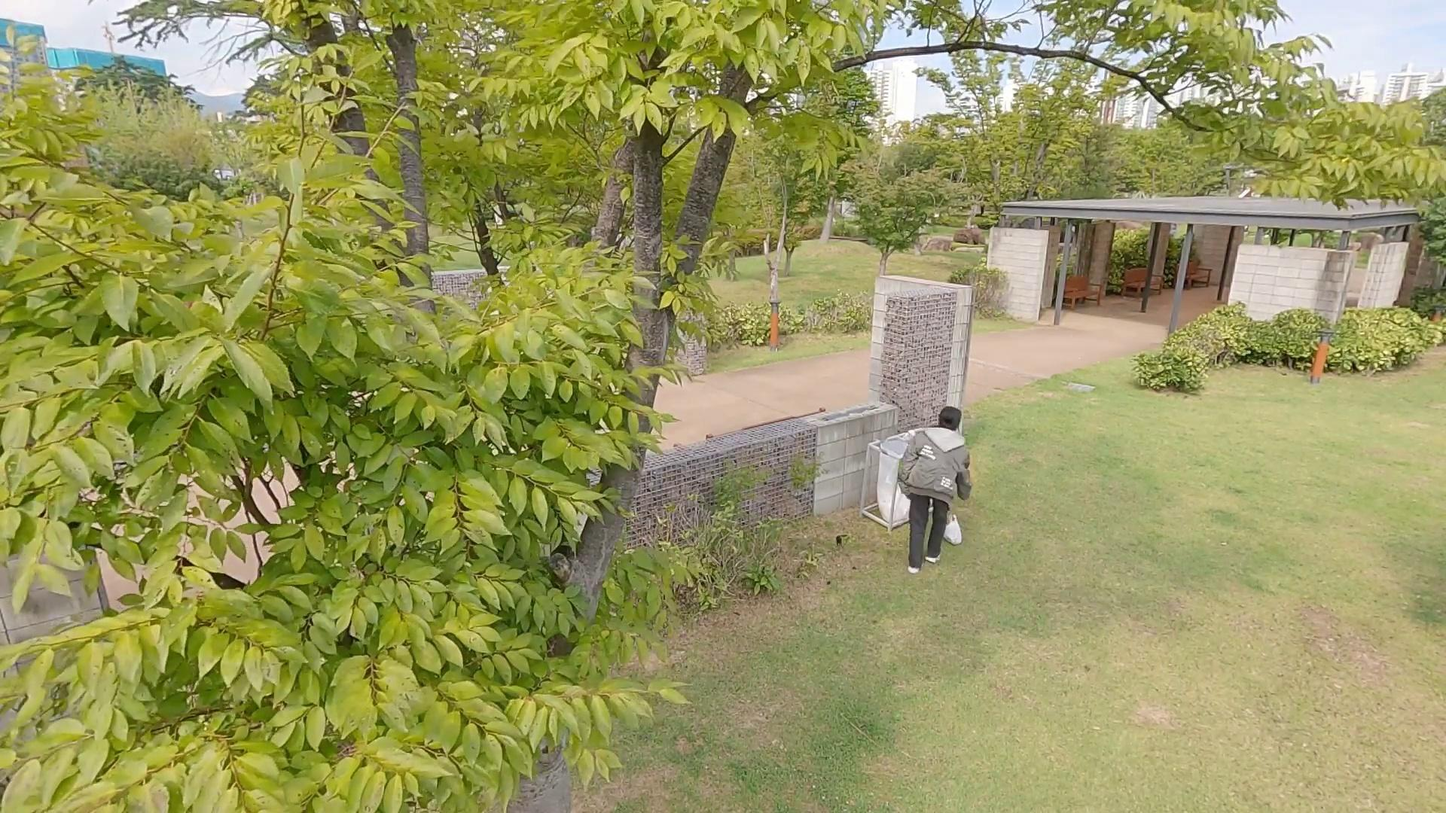person: (899, 406, 972, 574)
trash: (943, 516, 964, 545)
